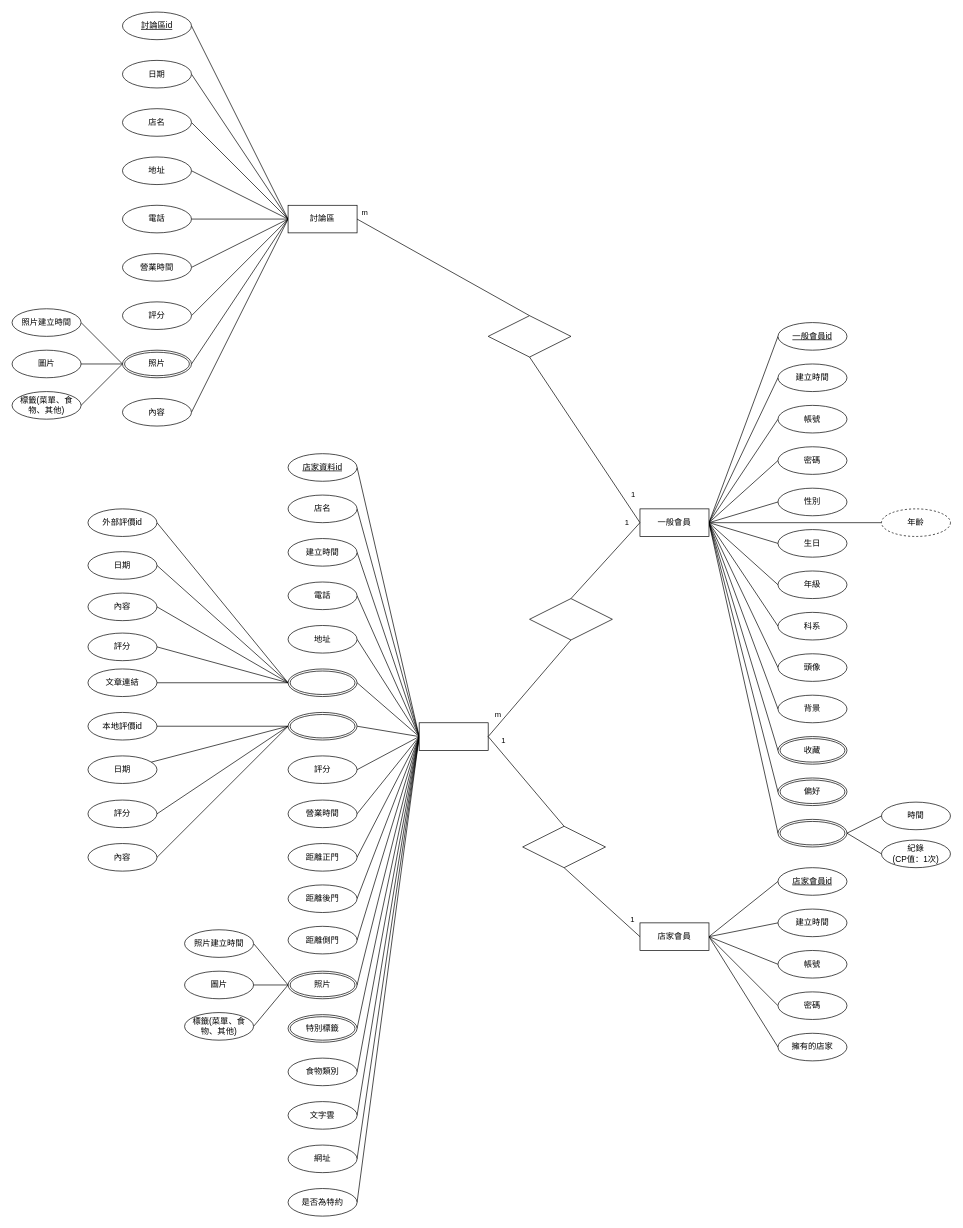
The diagram is 963 pixels wide and 1228 high, and some of its shapes have lost their labels. Here are the shapes that lost their labels. From the top down, the centre of each, then its label:
At [529,336]: "留言".
At [570,619]: "瀏覽".
At [322,682]: "外部評價".
At [322,726]: "本地評價".
At [453,736]: "店家資料".
At [563,847]: "管理".
At [812,833]: "點擊紀錄".
